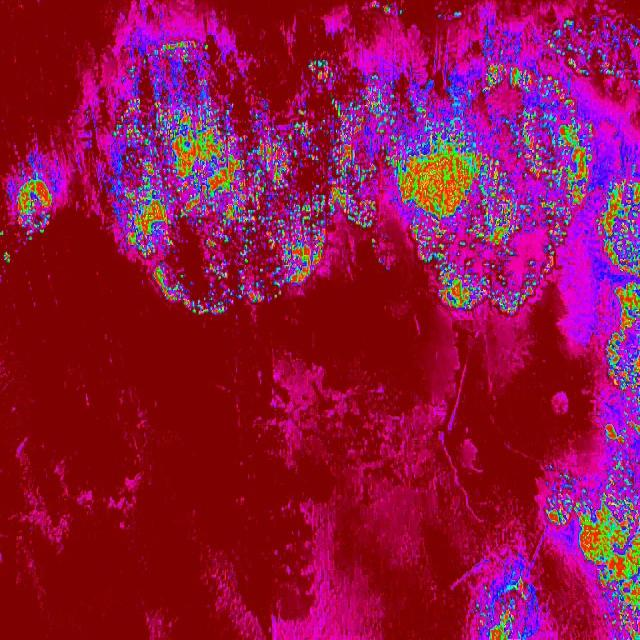fire: (332, 0, 640, 246), (76, 26, 331, 218), (116, 216, 330, 312), (414, 245, 560, 313), (599, 244, 640, 472), (575, 531, 640, 640), (468, 556, 544, 640), (0, 143, 64, 241), (545, 472, 640, 532)
